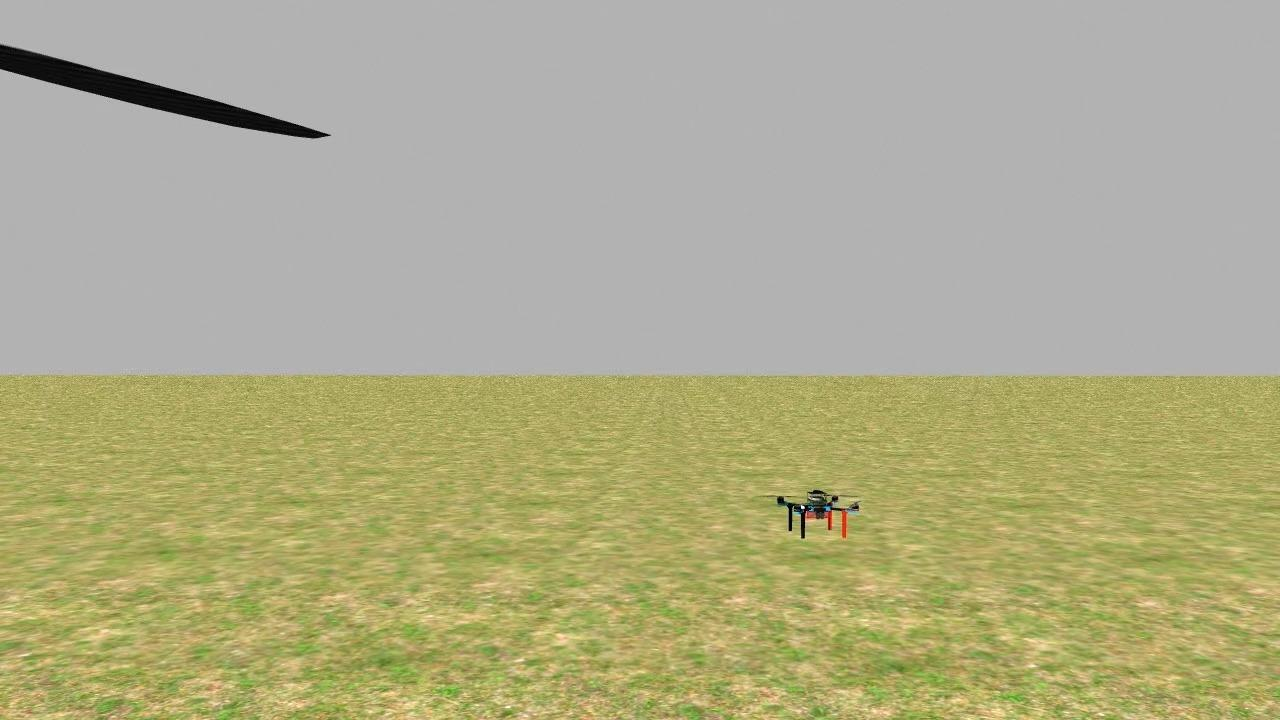UAV: (761, 478, 862, 552)
